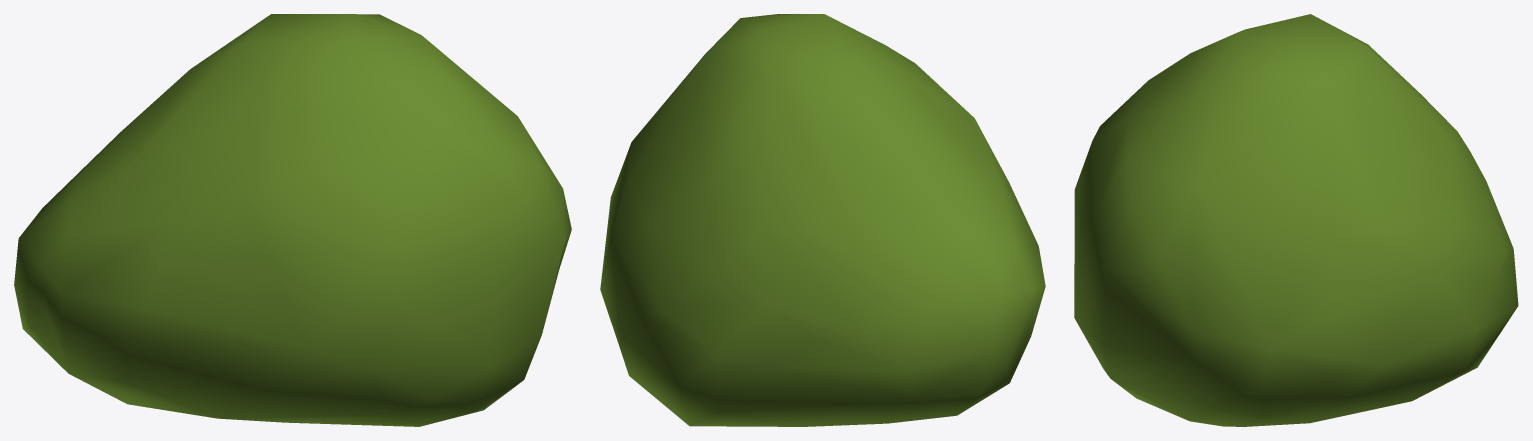
The model's file is Sm_Bush2L.fbx.
3 views of the same model, side by side, from view 1: azimuth 30°, elevation 25°; view 2: azimuth 150°, elevation 25°; view 3: azimuth 270°, elevation 25° (orthographic). The views are drawn at different scales.
Visible parts, largest first — view 1: Sm_Bush2L; view 2: Sm_Bush2L; view 3: Sm_Bush2L.
Boxes of the visible parts, x1=… form: Sm_Bush2L: x1=14, y1=14, x2=571, y2=426; Sm_Bush2L: x1=600, y1=14, x2=1045, y2=426; Sm_Bush2L: x1=1074, y1=14, x2=1518, y2=426.
Bounding box in the file's own units: 89.92 × 68.89 × 77.04.
